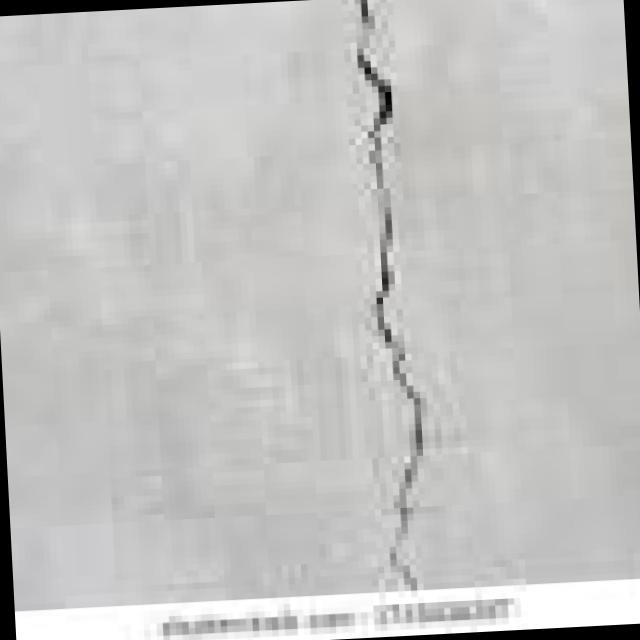crack: (335, 0, 436, 587)
